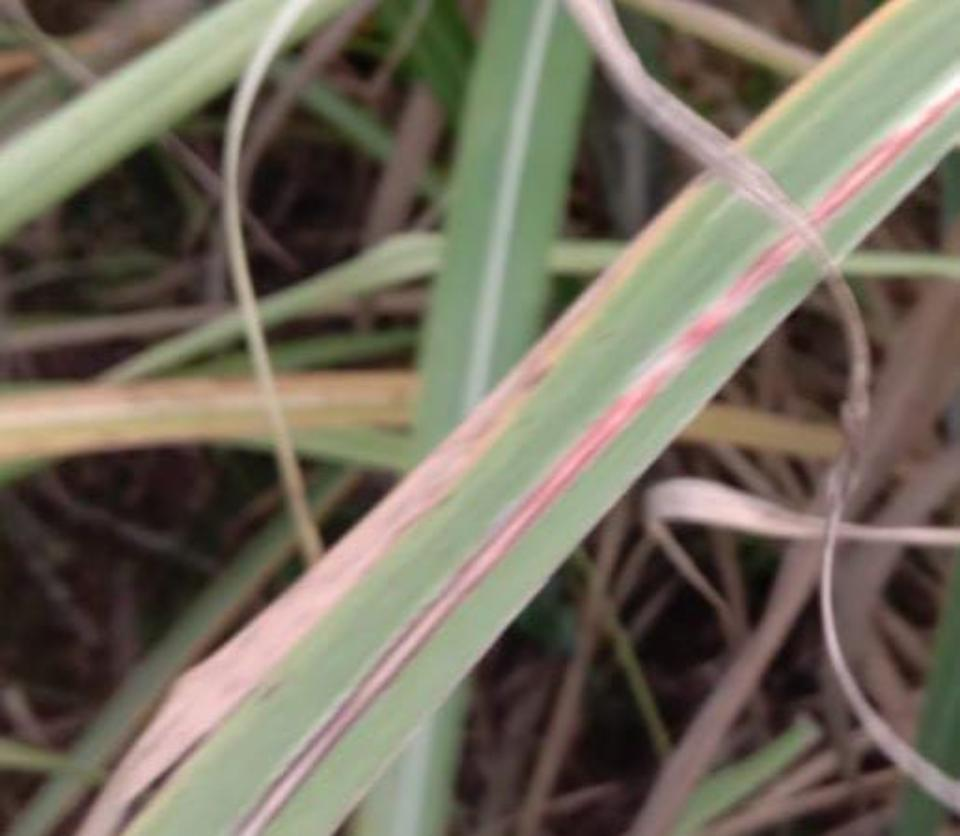RedRot: (232, 85, 958, 835)
